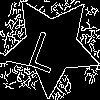L: (25, 20, 67, 74)
